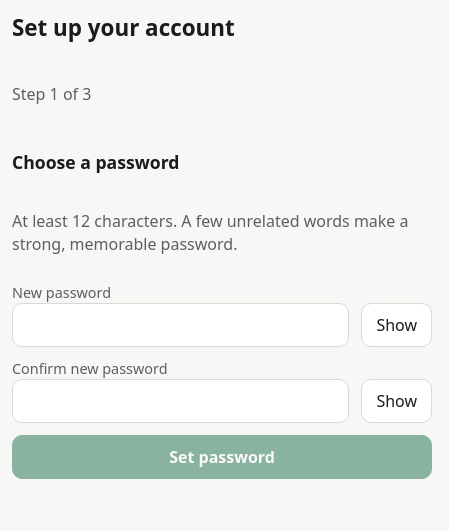
it: SetupFlow › password step › explains the too_short rejection
Type "whatever it is here" into the password field labelled "New password" at (181, 325), box left=12, top=303, right=349, bottom=347
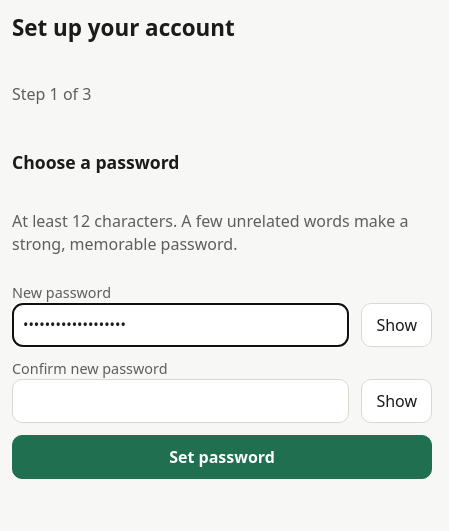
Type "whatever it is here" into the password field labelled "Confirm new password" at (181, 402), box left=12, top=380, right=349, bottom=424
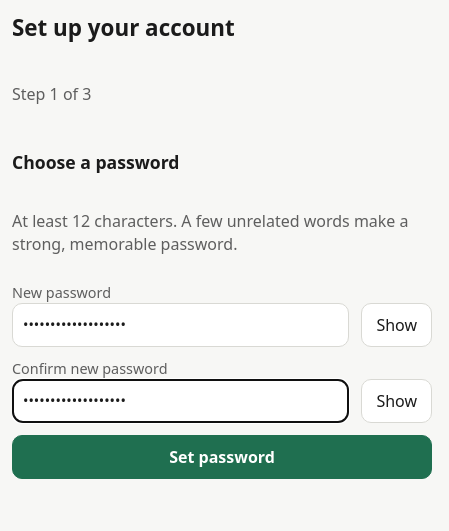
Click the button "Set password" at (222, 458), box left=12, top=436, right=432, bottom=480
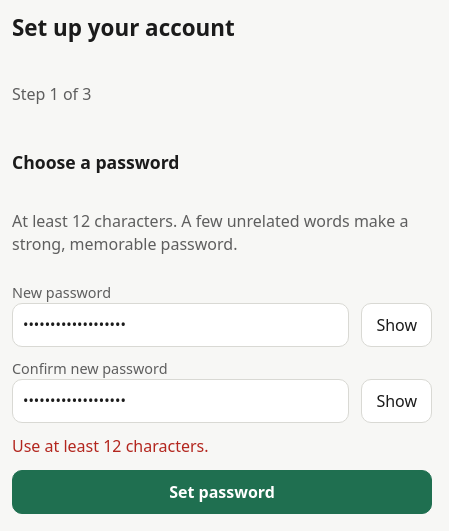
Expected: the message reads "Use at least 12 characters.", left=12, top=436, right=208, bottom=458
